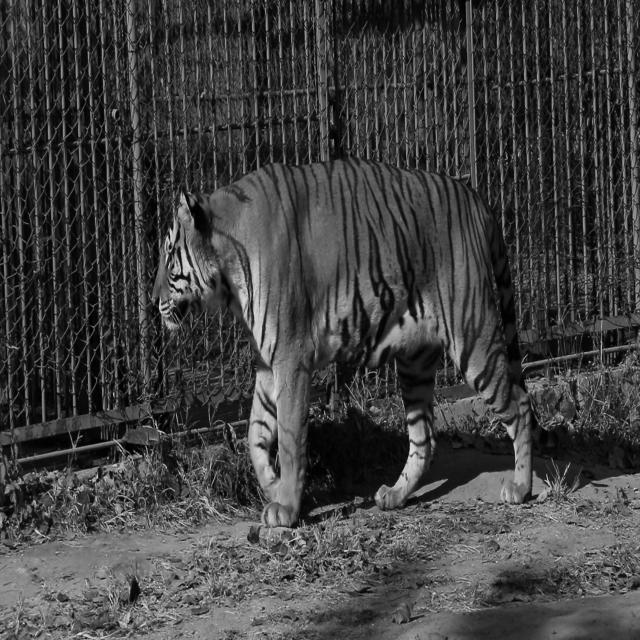Tiger: (151, 154, 537, 529)
